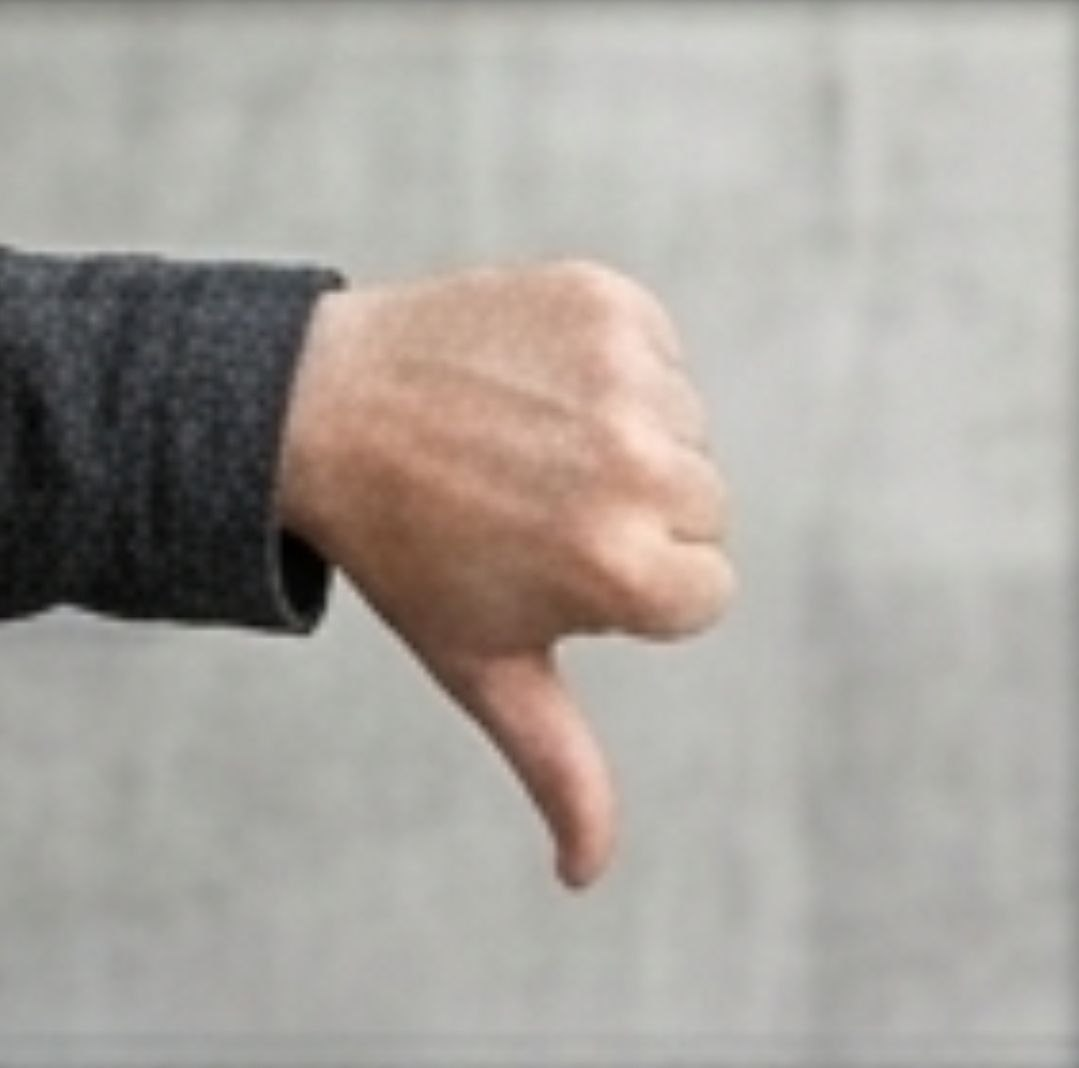Thumbs down: (321, 247, 763, 909)
